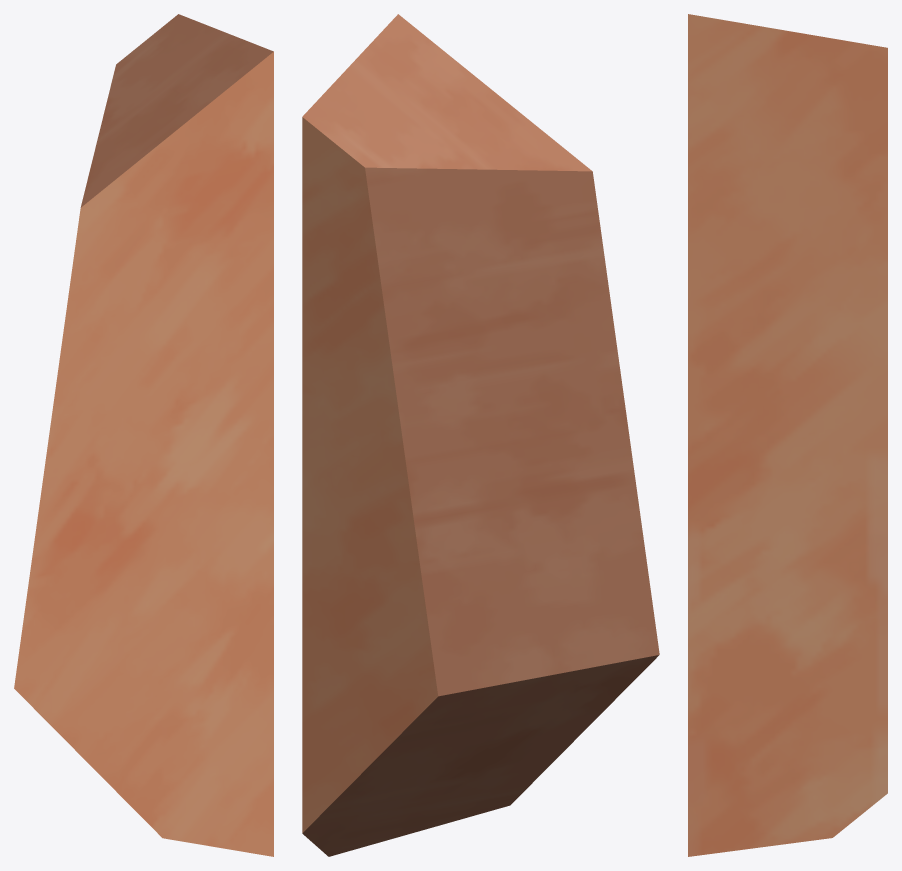
The model's file is wall2_upper_door_s06.fbx.
The picture shows the model from 3 angles, left to right: view 1: azimuth 30°, elevation 25°; view 2: azimuth 150°, elevation 25°; view 3: azimuth 270°, elevation 25°; orthographic projection. The views are drawn at different scales.
Parts seen in each view (by area): view 1: wall2_upper_door_s06; view 2: wall2_upper_door_s06; view 3: wall2_upper_door_s06.
Part boxes in pixels (bbox=[...]): wall2_upper_door_s06: bbox=[14, 14, 273, 856]; wall2_upper_door_s06: bbox=[302, 14, 659, 856]; wall2_upper_door_s06: bbox=[688, 14, 887, 856].
Bounding box in the file's own units: 1.57 × 4.66 × 1.
